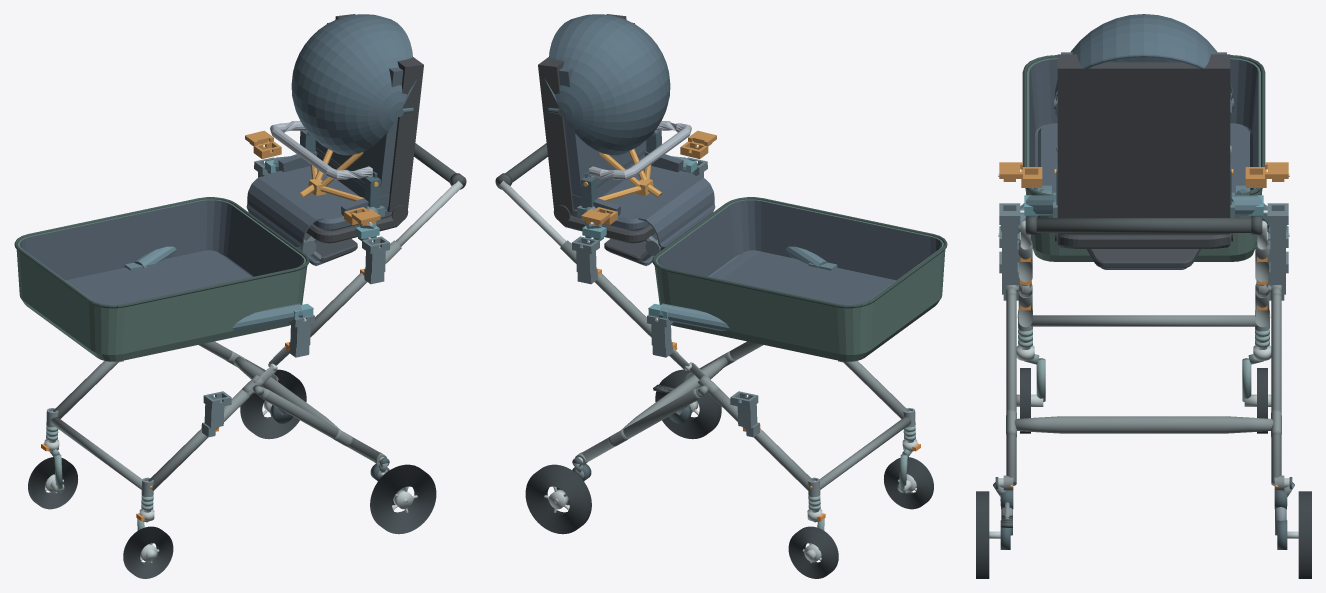
File: D11_w650_state1_wheel_S.glb
3 renders of one model, left to right at view 1: azimuth 30°, elevation 25°; view 2: azimuth 150°, elevation 25°; view 3: azimuth 270°, elevation 25°, orthographic. The views are drawn at different scales.
Parts seen in each view (by area): view 1: D11_Lower, D11_Upper, RL_tire.008, RR_tire.008, FL_tire.008, D11_Lower_Mount_M, FR_tire.008, V46_rear_leg_-1.009, main_lower_-1.009, front_fixed_round_tube.008, main_upper_-1.009, V46_rearbar.009 (+8 smaller); view 2: D11_Lower, D11_Upper, RR_tire.008, FR_tire.008, D11_Lower_Mount_M, RL_tire.008, FL_tire.008, V46_rear_leg_1.009, main_lower_1.009, front_fixed_round_tube.008, main_upper_1.009, V46_rearbar.009 (+8 smaller); view 3: D11_Upper, D11_Lower, V46_rearbar.009, round_handle.008, front_fixed_round_tube.008, V46_rear_leg_1.009, V46_rear_leg_-1.009, D11_Upper_Mount_H, RL_tire.008, RR_tire.008, Universal_Cabin_Receiver_H_1, Universal_Cabin_Receiver_H_-1 (+9 smaller).
Boxes of the visible parts, left/top/right/bottom form: D11_Lower: left=14, top=197, right=309, bottom=361; D11_Upper: left=246, top=14, right=423, bottom=265; RL_tire.008: left=370, top=464, right=436, bottom=534; RR_tire.008: left=240, top=369, right=306, bottom=439; FL_tire.008: left=123, top=526, right=173, bottom=578; D11_Lower_Mount_M: left=124, top=246, right=313, bottom=330; FR_tire.008: left=28, top=457, right=77, bottom=509; V46_rear_leg_-1.009: left=260, top=389, right=380, bottom=462; main_lower_-1.009: left=148, top=389, right=252, bottom=490; front_fixed_round_tube.008: left=50, top=417, right=142, bottom=489; main_upper_-1.009: left=310, top=240, right=401, bottom=337; V46_rearbar.009: left=234, top=356, right=340, bottom=429; D11_Lower: left=652, top=197, right=947, bottom=361; D11_Upper: left=538, top=14, right=715, bottom=265; RR_tire.008: left=525, top=464, right=591, bottom=534; FR_tire.008: left=788, top=526, right=838, bottom=578; D11_Lower_Mount_M: left=648, top=246, right=837, bottom=330; RL_tire.008: left=655, top=369, right=721, bottom=439; FL_tire.008: left=884, top=457, right=933, bottom=509; V46_rear_leg_1.009: left=581, top=389, right=701, bottom=462; main_lower_1.009: left=709, top=389, right=813, bottom=490; front_fixed_round_tube.008: left=819, top=417, right=911, bottom=489; main_upper_1.009: left=560, top=240, right=651, bottom=337; V46_rearbar.009: left=621, top=356, right=727, bottom=429; D11_Upper: left=1054, top=14, right=1233, bottom=269; D11_Lower: left=1022, top=55, right=1265, bottom=261; V46_rearbar.009: left=1014, top=416, right=1273, bottom=433; round_handle.008: left=1025, top=218, right=1262, bottom=232; front_fixed_round_tube.008: left=1031, top=315, right=1256, bottom=326; V46_rear_leg_1.009: left=1271, top=293, right=1281, bottom=485; V46_rear_leg_-1.009: left=1006, top=293, right=1016, bottom=485; D11_Upper_Mount_H: left=1020, top=192, right=1267, bottom=217; RL_tire.008: left=976, top=491, right=989, bottom=578; RR_tire.008: left=1298, top=491, right=1311, bottom=578; Universal_Cabin_Receiver_H_1: left=1267, top=203, right=1288, bottom=262; Universal_Cabin_Receiver_H_-1: left=999, top=203, right=1020, bottom=262.
Size of the model in its own units: 1.2 by 1.43 by 0.766.
